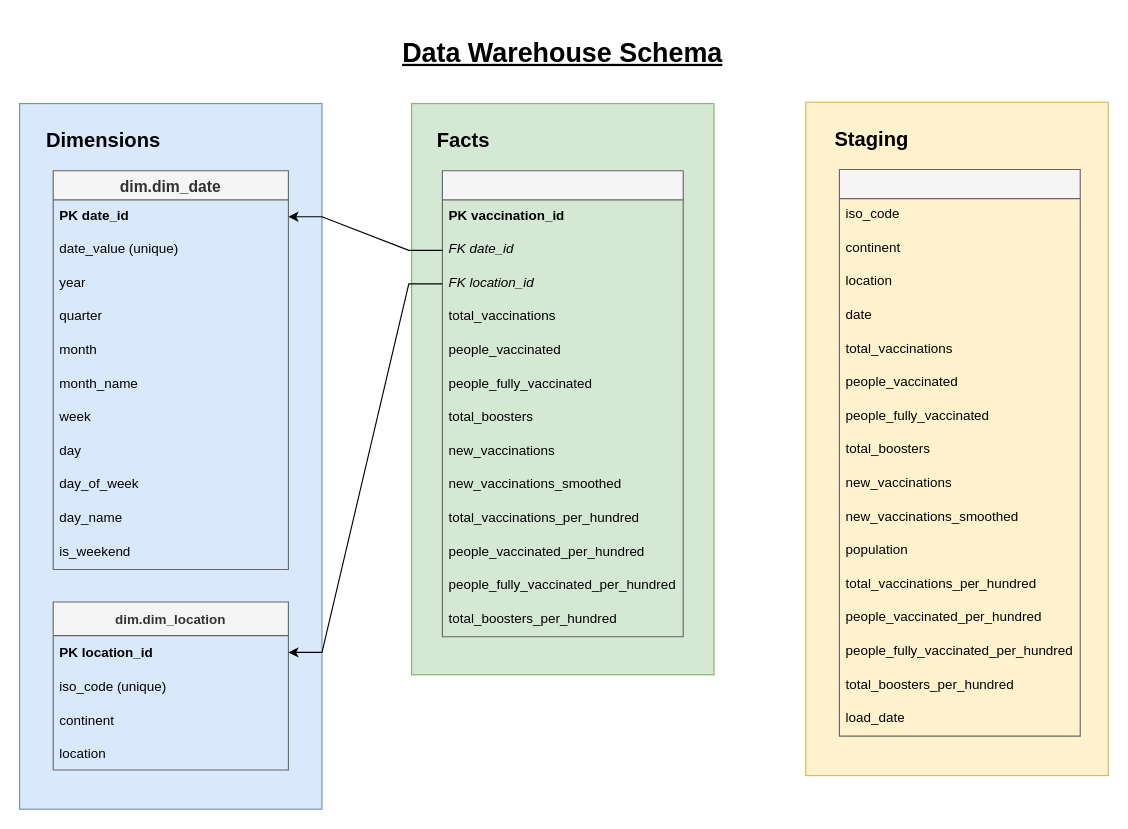
The diagram is 1128 pixels wide and 829 high, and some of its shapes have lost their labels. The box of each missing label's shape, as (x1, y1, x2, y2) in pixels:
fact.fact_vaccination: (441, 170, 683, 637)
staging.stg_owid_covid: (838, 168, 1080, 736)
